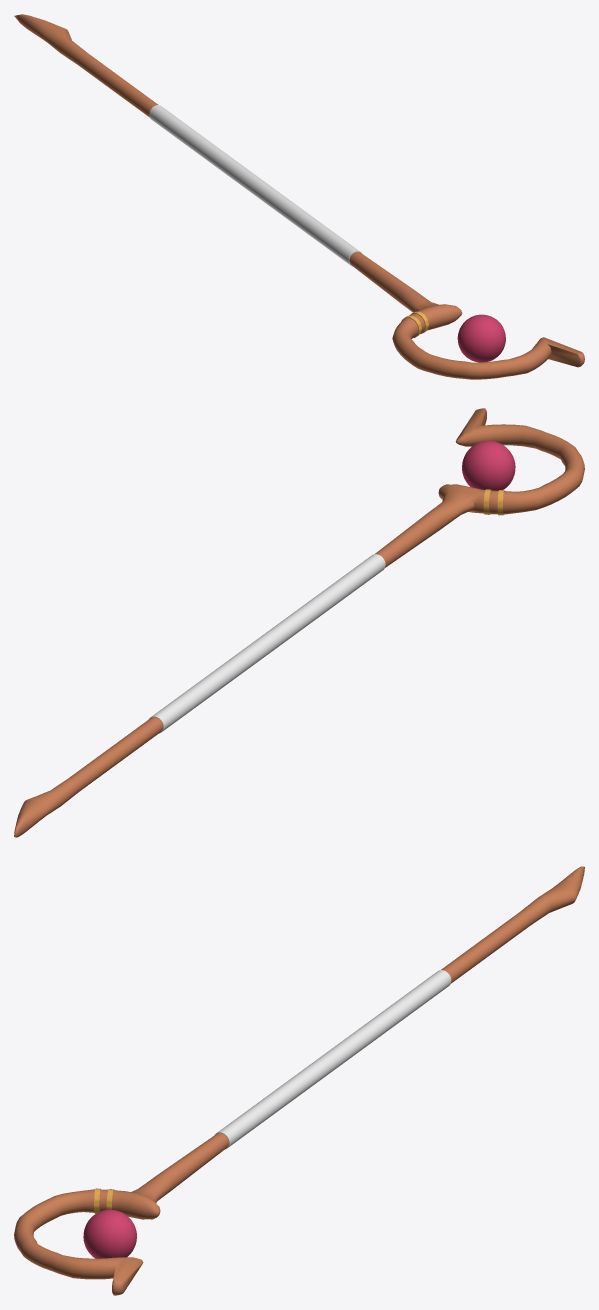
Rendered from megumin staff 2_8.fbx.
The picture shows the model from 3 angles, top to bottom: view 1: azimuth 30°, elevation 25°; view 2: azimuth 150°, elevation 25°; view 3: azimuth 330°, elevation 25°; orthographic projection. The views are drawn at different scales.
Parts seen in each view (by area): view 1: megumin staff; view 2: megumin staff; view 3: megumin staff.
Part boxes in pixels (bbox=[...]): megumin staff: bbox=[14, 14, 584, 379]; megumin staff: bbox=[14, 408, 584, 837]; megumin staff: bbox=[14, 866, 584, 1295].
Size of the model in its own units: 18.79 by 5.93 by 122.
